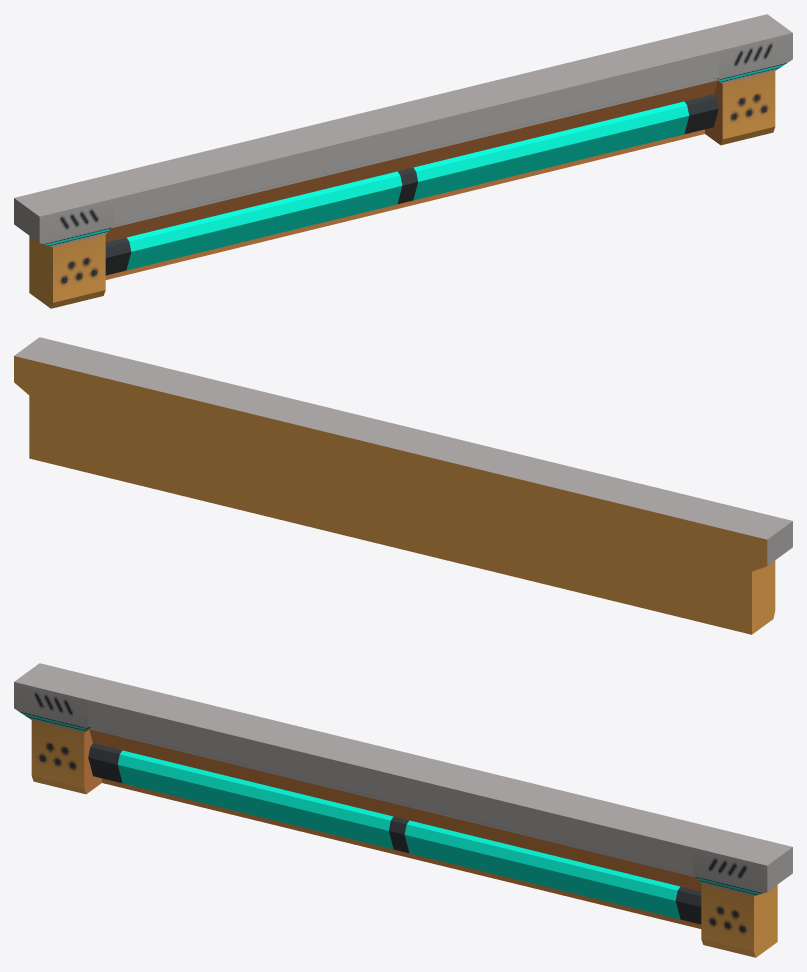
The model's file is SM_Bld_Ceiling_Trim_02.fbx.
3 views of the same model, one above another, from view 1: azimuth 30°, elevation 25°; view 2: azimuth 150°, elevation 25°; view 3: azimuth 330°, elevation 25° (orthographic).
Parts seen in each view (by area): view 1: SM_Bld_Ceiling_Trim_02; view 2: SM_Bld_Ceiling_Trim_02; view 3: SM_Bld_Ceiling_Trim_02.
Boxes of the visible parts, bbox=[...] form: SM_Bld_Ceiling_Trim_02: bbox=[14, 14, 792, 308]; SM_Bld_Ceiling_Trim_02: bbox=[14, 337, 792, 634]; SM_Bld_Ceiling_Trim_02: bbox=[14, 663, 792, 957].
Size of the model in its own units: 250 by 31.35 by 14.75.
